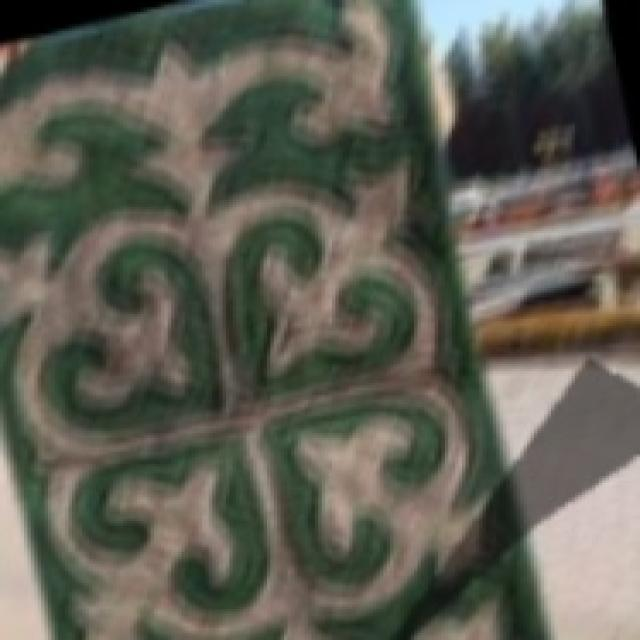Unity: (0, 155, 532, 638)
